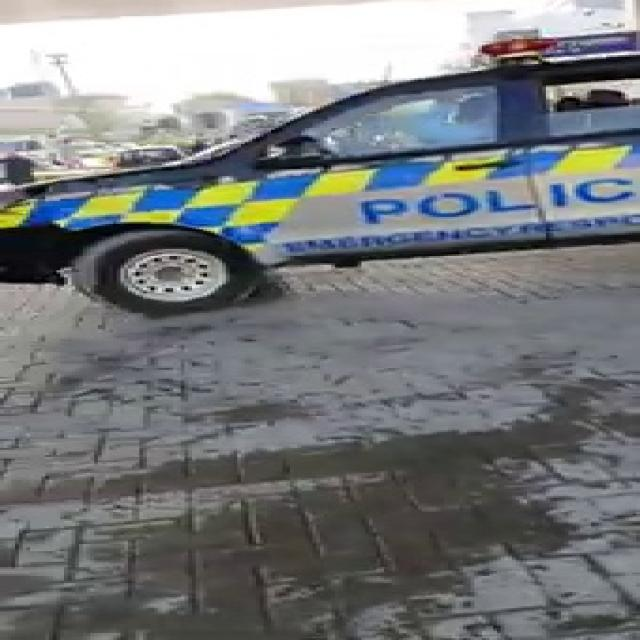police: (0, 2, 640, 288)
